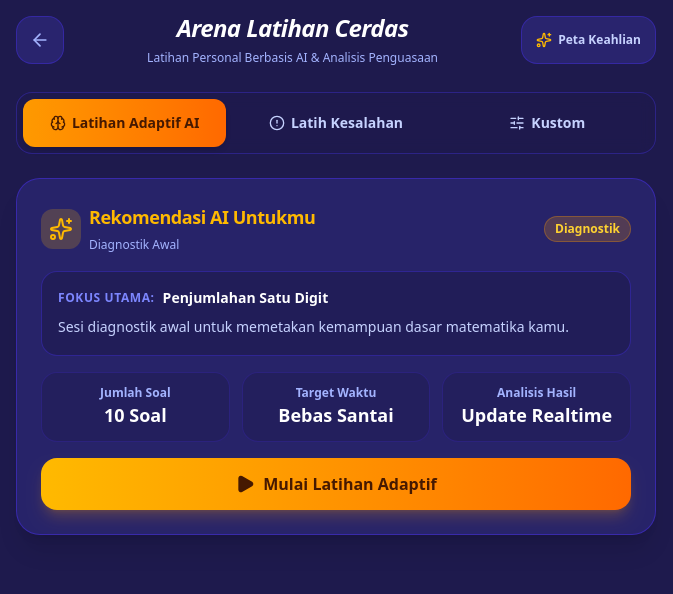
Test: PracticeHubView Component › Top Bar and Navigation › switches between tabs and plays click sound
Expected: the heading "Rekomendasi AI Untukmu" is shown, [89,203,315,231]
Note: Switch to remediation
Click the tab "Latih Kesalahan": [336, 123] box [234,99,438,147]
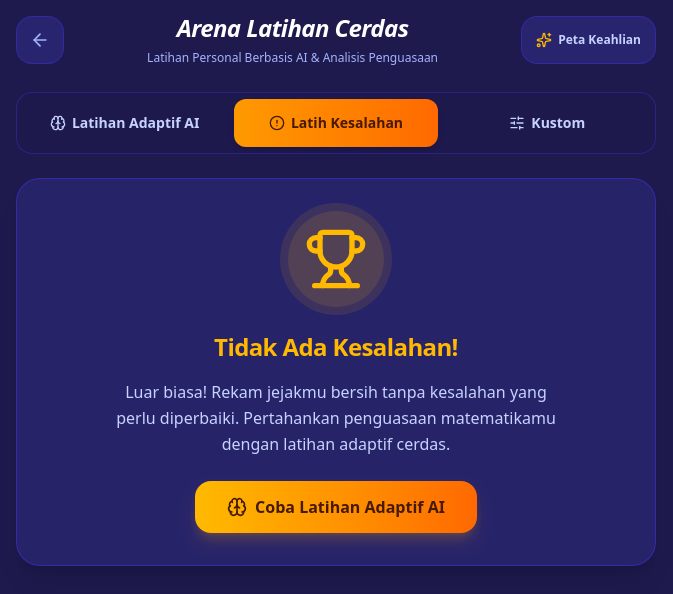
Expected: the heading "Rekomendasi AI Untukmu" is gone
Note: Switch to custom
Click the tab "Kustom": [547, 123] box [446,99,649,147]
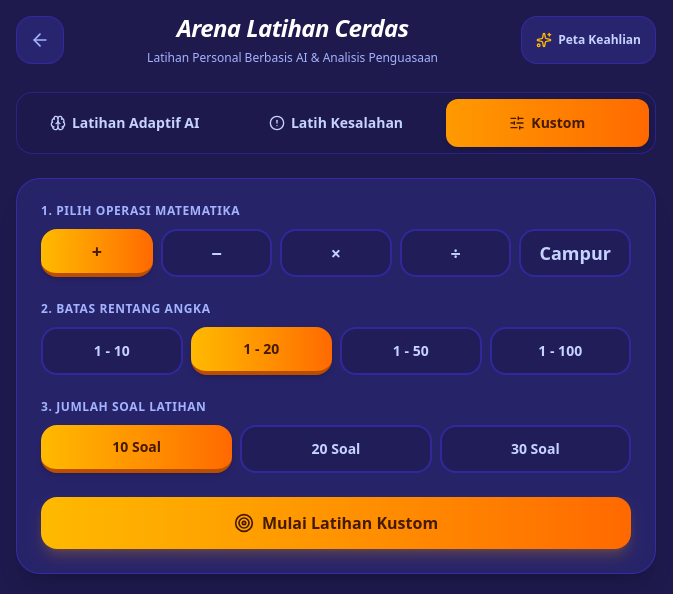
Expected: the text "1. Pilih Operasi Matematika" is shown, [41,202,240,219]
Note: Switch back to adaptive
Click the tab "Latihan Adaptif AI": [125, 123] box [23,99,226,147]
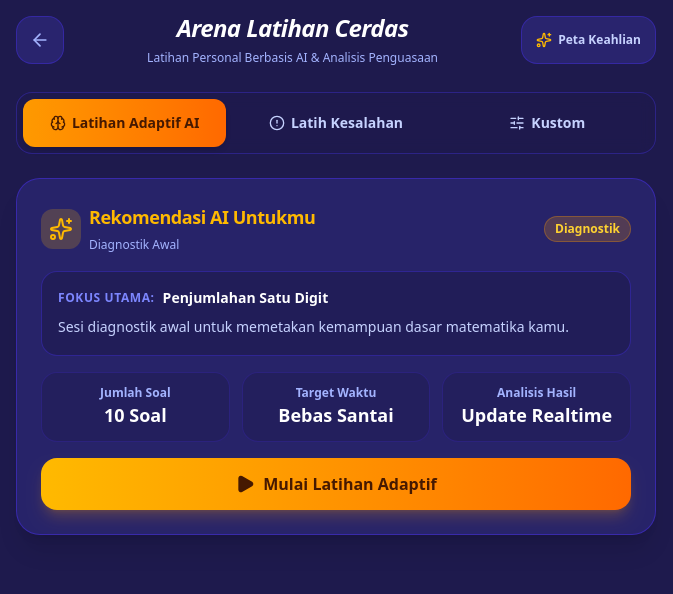
Expected: the heading "Rekomendasi AI Untukmu" is shown, [89,203,315,231]
